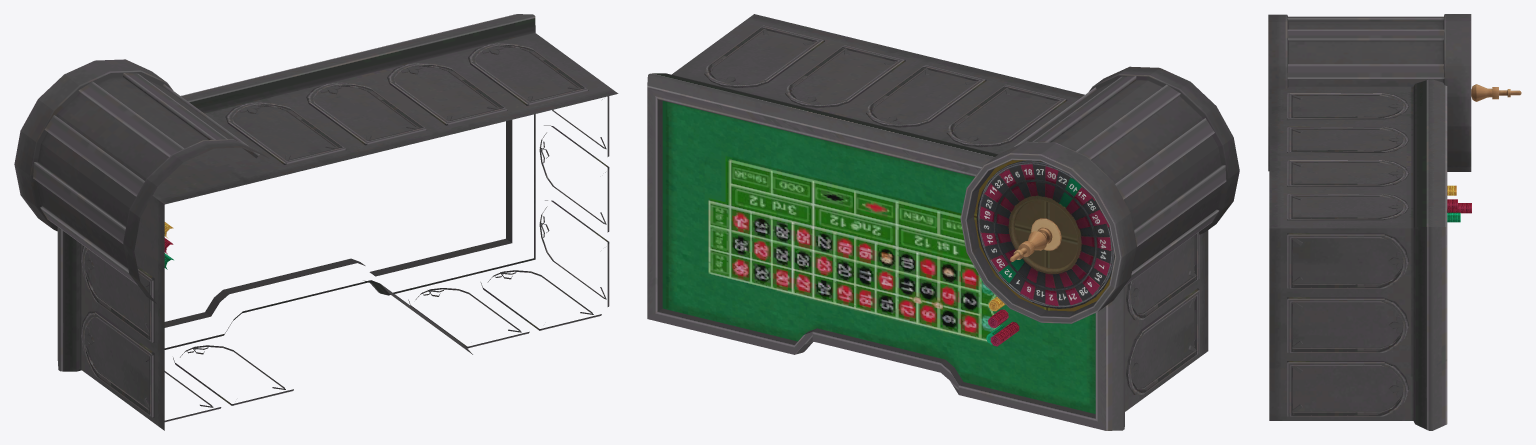
File: Roul_table_un_temp_inc_noppl_blank_tables.glb
3 renders of one model, left to right at view 1: azimuth 30°, elevation 25°; view 2: azimuth 150°, elevation 25°; view 3: azimuth 270°, elevation 25°, orthographic. The views are drawn at different scales.
Parts seen in each view (by area): view 1: Material2.82440; view 2: Material2.82440; view 3: Material2.82440.
Part boxes in pixels (x1,y1,x2,y2): Material2.82440: [14, 14, 618, 430]; Material2.82440: [647, 14, 1239, 430]; Material2.82440: [1268, 14, 1521, 430].
Size of the model in its own units: 0.0971 by 0.052 by 0.0504.
1 material, 1 textured.
